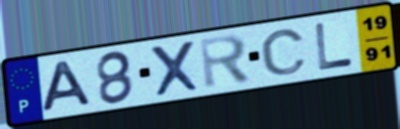8: (94, 49, 135, 106)
A: (40, 58, 95, 114)
C: (258, 28, 310, 77)
L: (312, 21, 355, 72)
R: (197, 32, 254, 91)
X: (147, 38, 203, 99)
